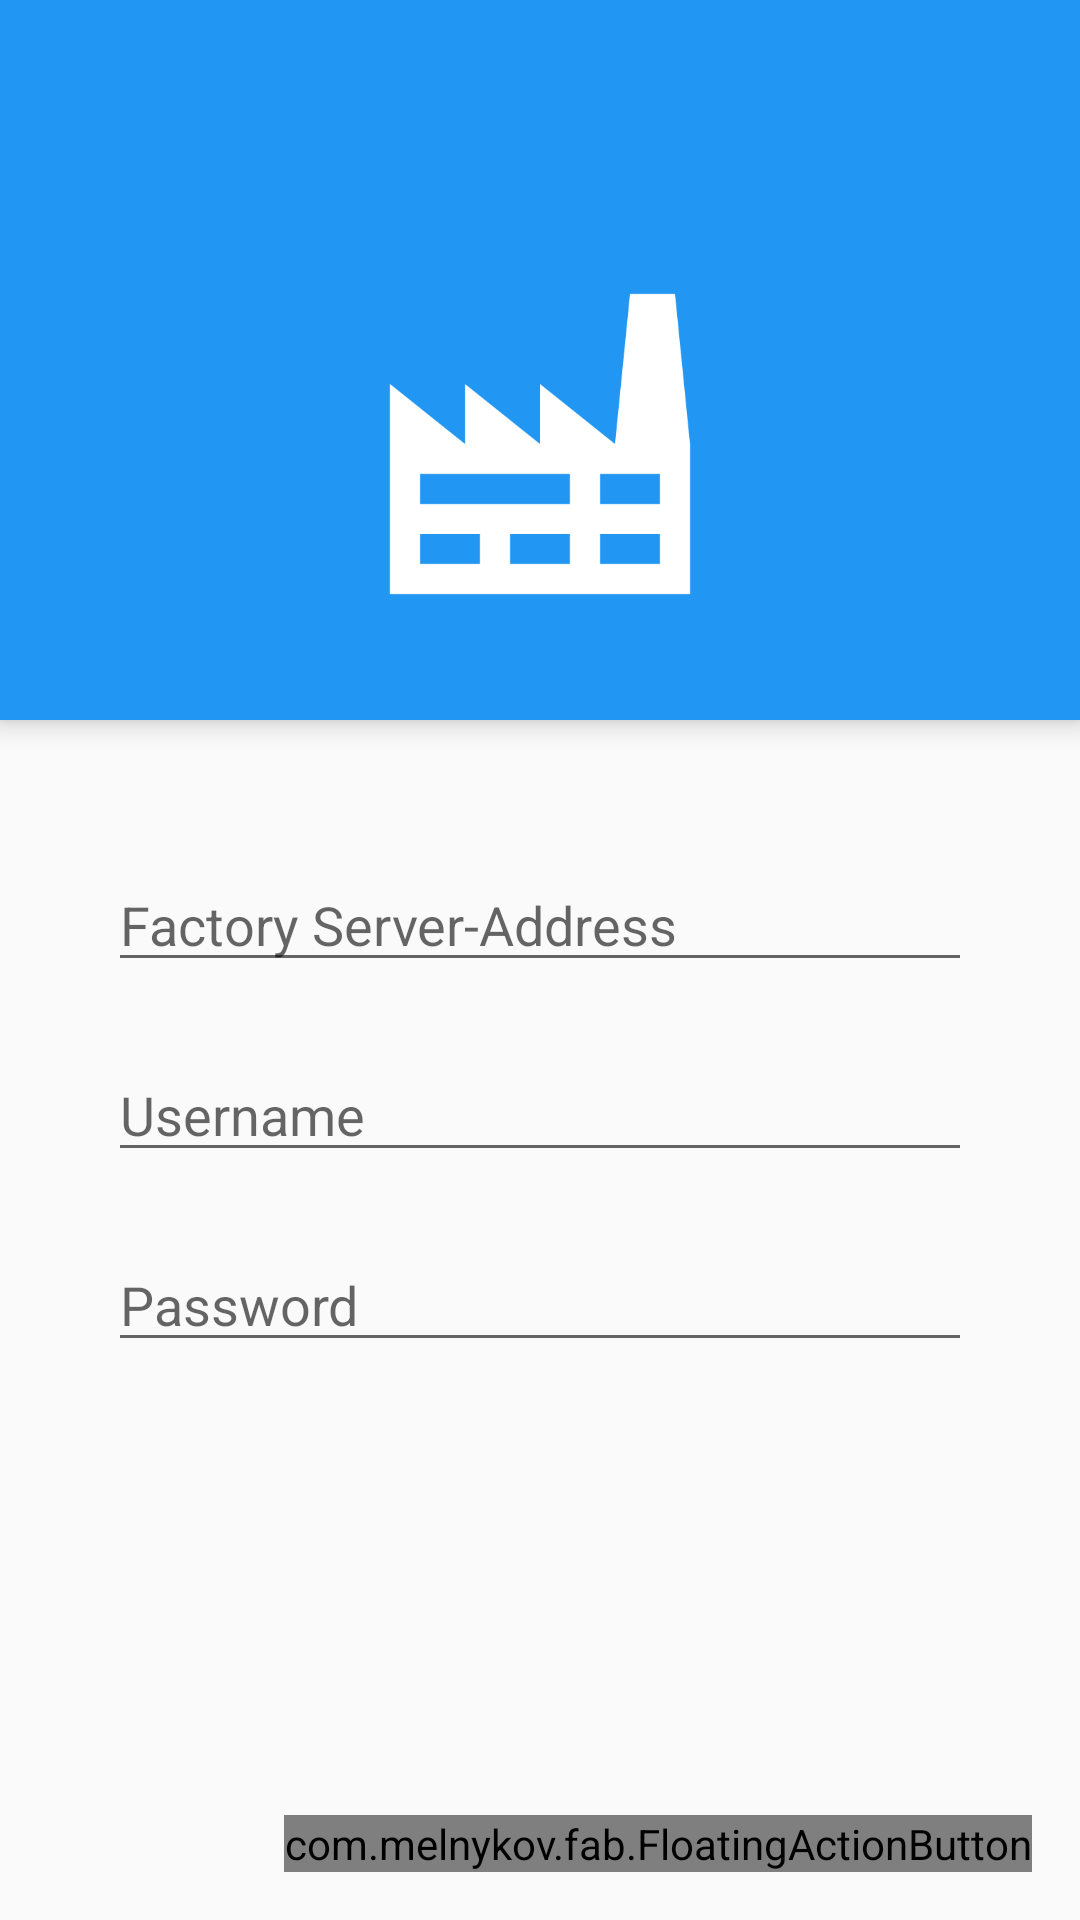

Icons on this 1080×1920 Android screen, each with the point to tap as (x,y):
App Icon: (540,444)
